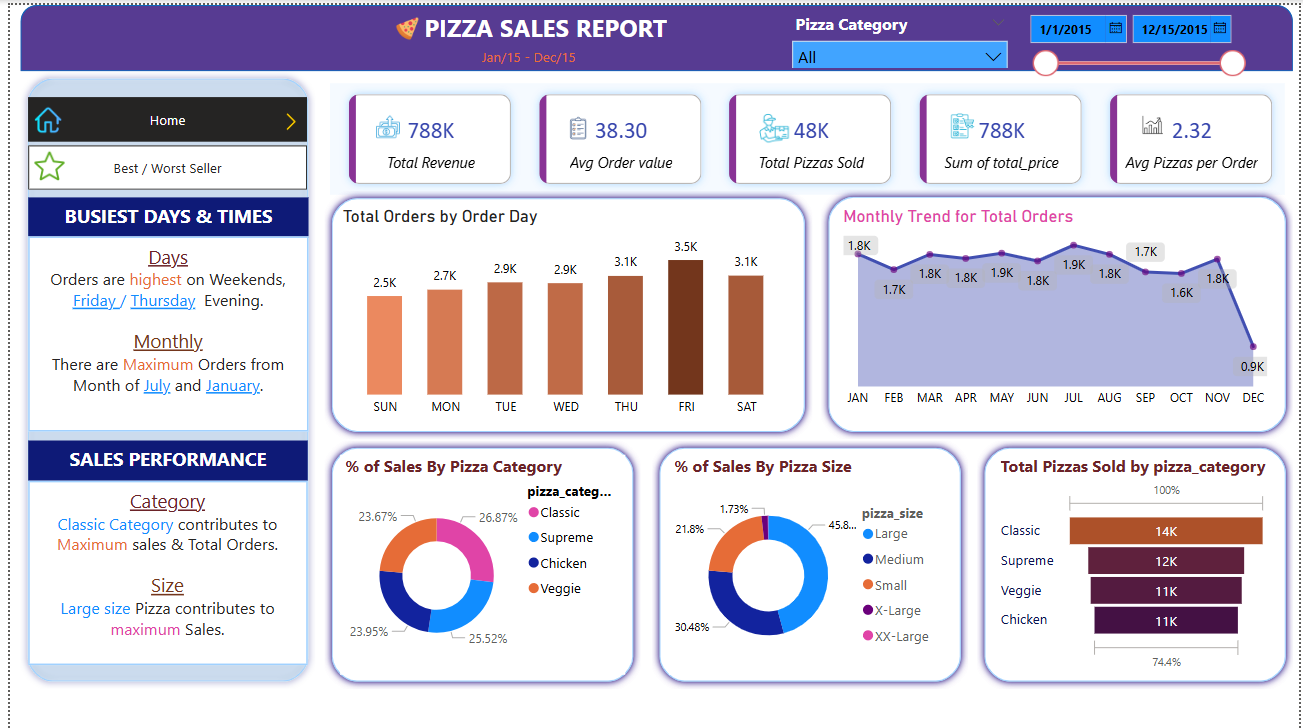

This screenshot's page, from the dashboard's own definition file:
{"tool":"powerbi","page":{"name":"Home","canvas":[1280,720],"ordinal":0},"visuals":[{"type":"shape","box":[10.3,0,1264.2,65.9],"z":0},{"type":"textbox","box":[375,0,315,51.2],"z":1000},{"type":"textbox","box":[460,36.2,111.2,30],"z":2000},{"type":"image","box":[377.5,6.2,35,33.7],"z":3000},{"type":"shape","box":[312.5,184.7,484.2,246.6],"z":4000},{"type":"columnChart","fields":{"Category":["pizza_sales.Order Day"],"Y":["pizza_sales.Total Orders"]},"box":[325.4,200.2,453.2,218.2],"z":5000},{"type":"shape","box":[805.8,183.4,468.7,247.9],"z":6000},{"type":"areaChart","title":"Monthly Trend for Total Orders","fields":{"Y":["pizza_sales.Total Orders"],"Category":["pizza_sales.Month_Name"]},"box":[822.6,200.2,431.3,209.2],"z":7000},{"type":"shape","box":[960.7,432.6,313.8,246.6],"z":8000},{"type":"shape","box":[312.5,432.6,313.8,246.6],"z":9000},{"type":"shape","box":[637.9,432.6,313.8,246.6],"z":10000},{"type":"donutChart","title":"% of Sales By Pizza Category","fields":{"Y":["pizza_sales.Total Revenue"],"Category":["pizza_sales.pizza_category"]},"box":[328,446.8,282.8,218.2],"z":11000},{"type":"donutChart","title":"% of Sales By Pizza Size","fields":{"Y":["pizza_sales.Total Revenue"],"Category":["pizza_sales.pizza_size"]},"box":[654.7,446.8,276.3,218.2],"z":12000},{"type":"funnel","fields":{"Category":["pizza_sales.pizza_category"],"Y":["pizza_sales.Total Pizzas Sold"]},"box":[978.8,446.8,275,218.2],"z":13000},{"type":"shape","box":[10.3,65.9,293.1,613.4],"z":14000},{"type":"textbox","box":[17.5,191.2,278.7,40],"z":15000},{"type":"textbox","box":[17.5,230,278.7,193.8],"z":16000},{"type":"textbox","box":[18.1,432.6,277.6,40],"z":17000},{"type":"textbox","box":[18.1,472.6,277.6,183.4],"z":18000},{"type":"slicer","fields":{"Values":["pizza_sales.pizza_category"]},"box":[767.5,2.5,233.8,60],"z":19000},{"type":"slicer","fields":{"Values":["pizza_sales.order_date"]},"box":[1001.2,0,243.8,75],"z":20000},{"type":"pageNavigator","box":[17.5,91.2,277.5,45],"z":21000},{"type":"pageNavigator","box":[17.5,140,277.5,45],"z":22000},{"type":"image","box":[257.5,102.5,45,27.5],"z":23000},{"type":"image","box":[18.8,93.8,36.2,40],"z":24000},{"type":"image","box":[17.5,140,42.5,40],"z":25000},{"type":"cardVisual","fields":{"Data":["pizza_sales.Total Revenue","pizza_sales.Avg Order value","pizza_sales.Total Pizzas Sold","Sum(pizza_sales.total_price)","pizza_sales.Avg Pizzas per Order"]},"box":[312.5,72.3,962,121.4],"z":26000},{"type":"image","box":[355.1,102,40,37.4],"z":27000},{"type":"image","box":[925.9,102,41.3,36.1],"z":28000},{"type":"image","box":[547.5,104.6,33.6,36.1],"z":29000},{"type":"image","box":[738.6,102,40,40],"z":30000},{"type":"image","box":[1117,99.4,36.1,38.7],"z":31000}]}

Visuals, with their boxes in screenshot pixels (x1, y1, x2, y2), scaled from the page's 1280x720 canvas onto the 1303x728 screenshot:
shape: box=[10, 0, 1297, 67]
textbox: box=[382, 0, 702, 52]
textbox: box=[468, 37, 581, 67]
image: box=[384, 6, 420, 40]
shape: box=[318, 187, 811, 436]
columnChart - pizza_sales.Order Day x pizza_sales.Total Orders: box=[331, 202, 793, 423]
shape: box=[820, 185, 1297, 436]
"Monthly Trend for Total Orders" areaChart: box=[837, 202, 1276, 414]
shape: box=[978, 437, 1297, 687]
shape: box=[318, 437, 638, 687]
shape: box=[649, 437, 969, 687]
"% of Sales By Pizza Category" donutChart: box=[334, 452, 622, 672]
"% of Sales By Pizza Size" donutChart: box=[666, 452, 948, 672]
funnel - pizza_sales.pizza_category x pizza_sales.Total Pizzas Sold: box=[996, 452, 1276, 672]
shape: box=[10, 67, 309, 687]
textbox: box=[18, 193, 302, 234]
textbox: box=[18, 233, 302, 429]
textbox: box=[18, 437, 301, 478]
textbox: box=[18, 478, 301, 663]
slicer - pizza_sales.pizza_category: box=[781, 3, 1019, 63]
slicer - pizza_sales.order_date: box=[1019, 0, 1267, 76]
pageNavigator: box=[18, 92, 300, 138]
pageNavigator: box=[18, 142, 300, 187]
image: box=[262, 104, 308, 131]
image: box=[19, 95, 56, 135]
image: box=[18, 142, 61, 182]
cardVisual - pizza_sales.Total Revenue x pizza_sales.Avg Order value: box=[318, 73, 1297, 196]
image: box=[361, 103, 402, 141]
image: box=[943, 103, 985, 140]
image: box=[557, 106, 592, 142]
image: box=[752, 103, 793, 144]
image: box=[1137, 101, 1174, 140]
